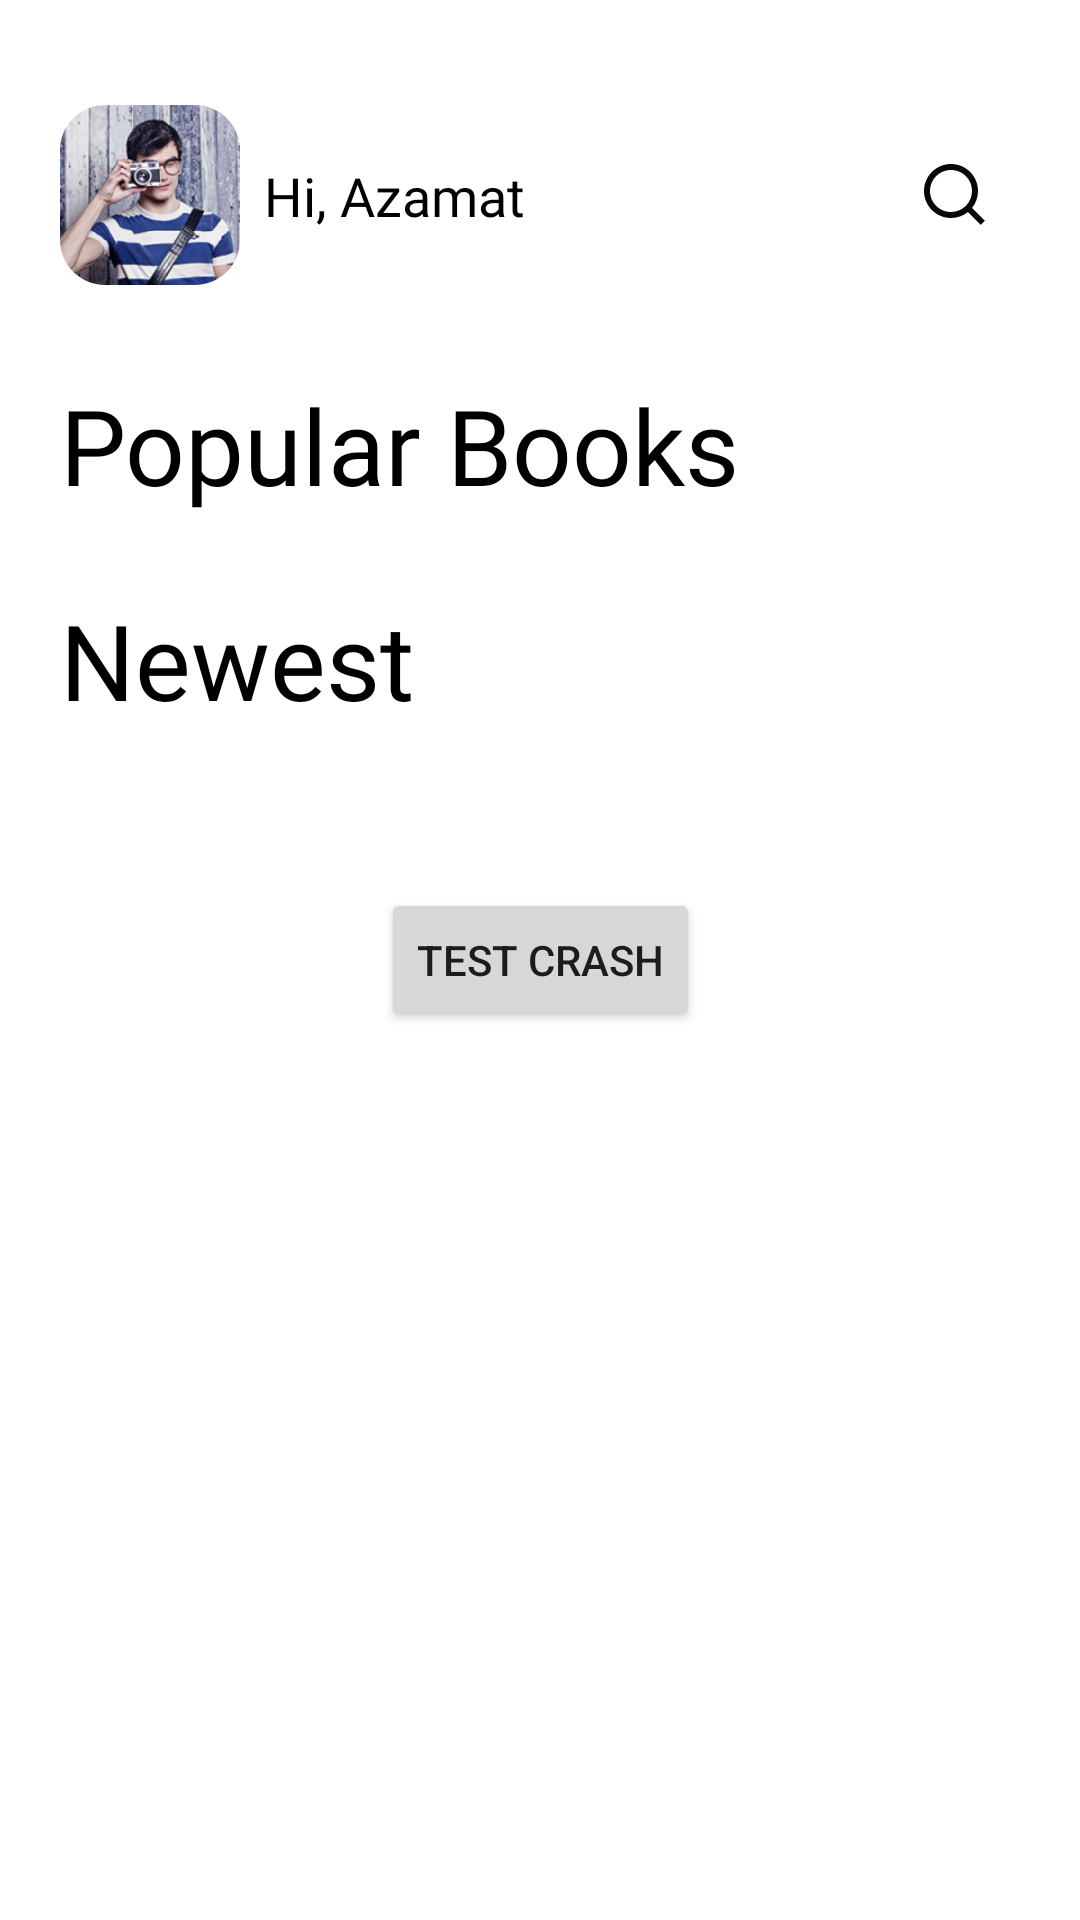

Point at icon controls on the screen. Image size 1080 x 1920, points as (x=x, y=y).
search: (x=954, y=194)
